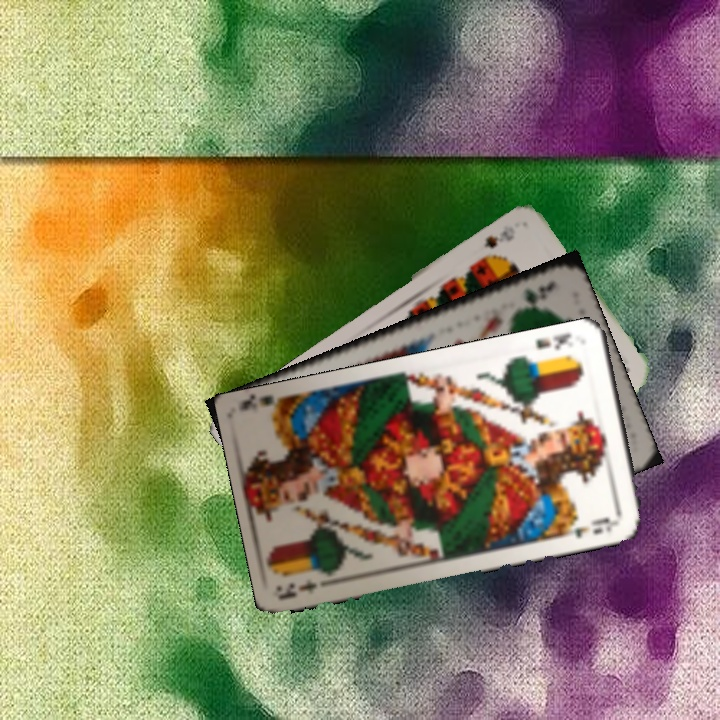EK: (279, 574, 338, 601), (531, 329, 574, 353)
GK: (520, 276, 559, 306)
S9: (479, 221, 518, 251)
